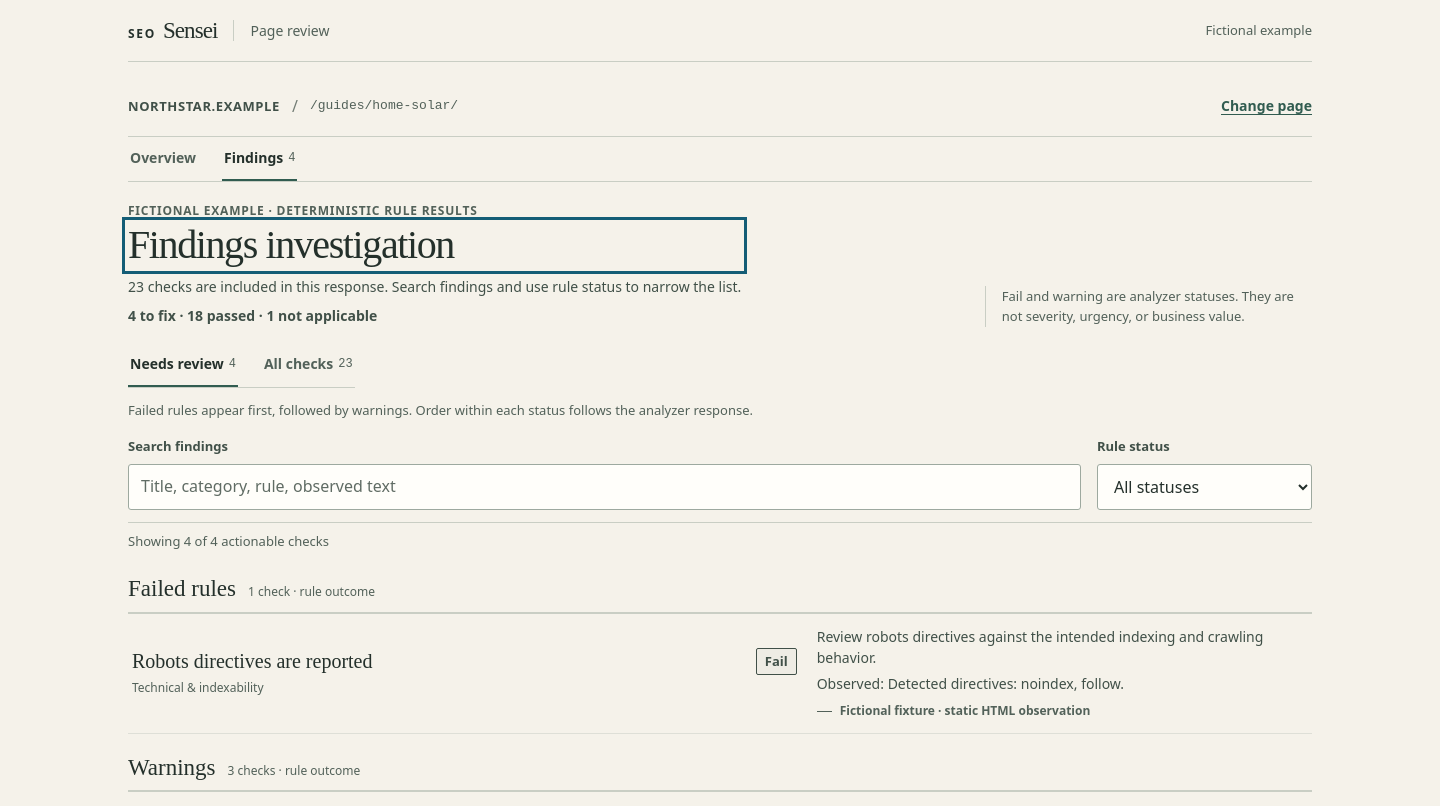
Evidence Ledger authenticated application › intersects search and status and restores the filtered list after detail navigation
Expected: the heading "Findings investigation" is shown, top-left (128, 222), bottom-right (454, 267)
In the search field labelled "Search findings": (604, 487) top-left (128, 464), bottom-right (1081, 510), type "twitter"
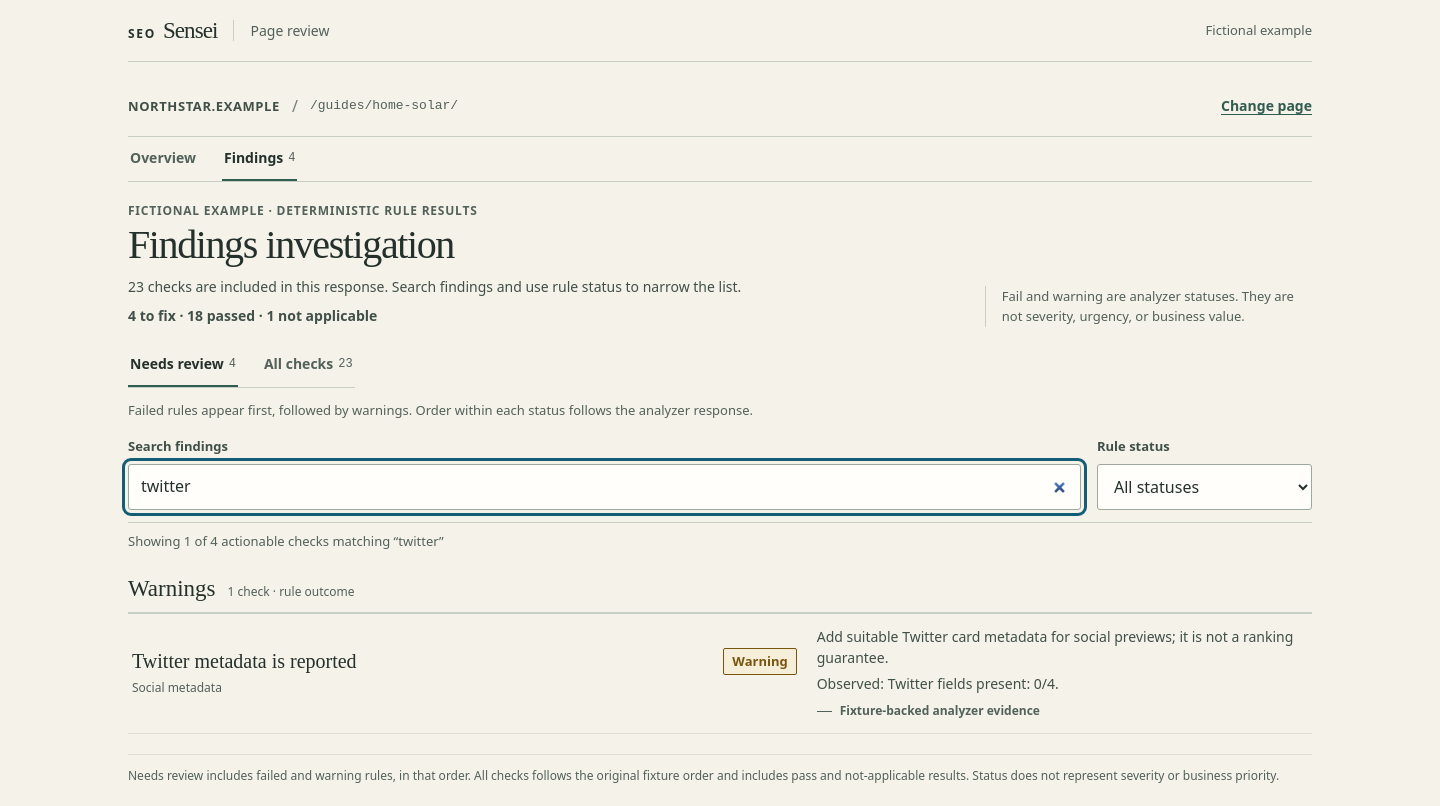
Select "Warning" in the dropdown labelled "Rule status": (1204, 487) top-left (1097, 464), bottom-right (1312, 510)
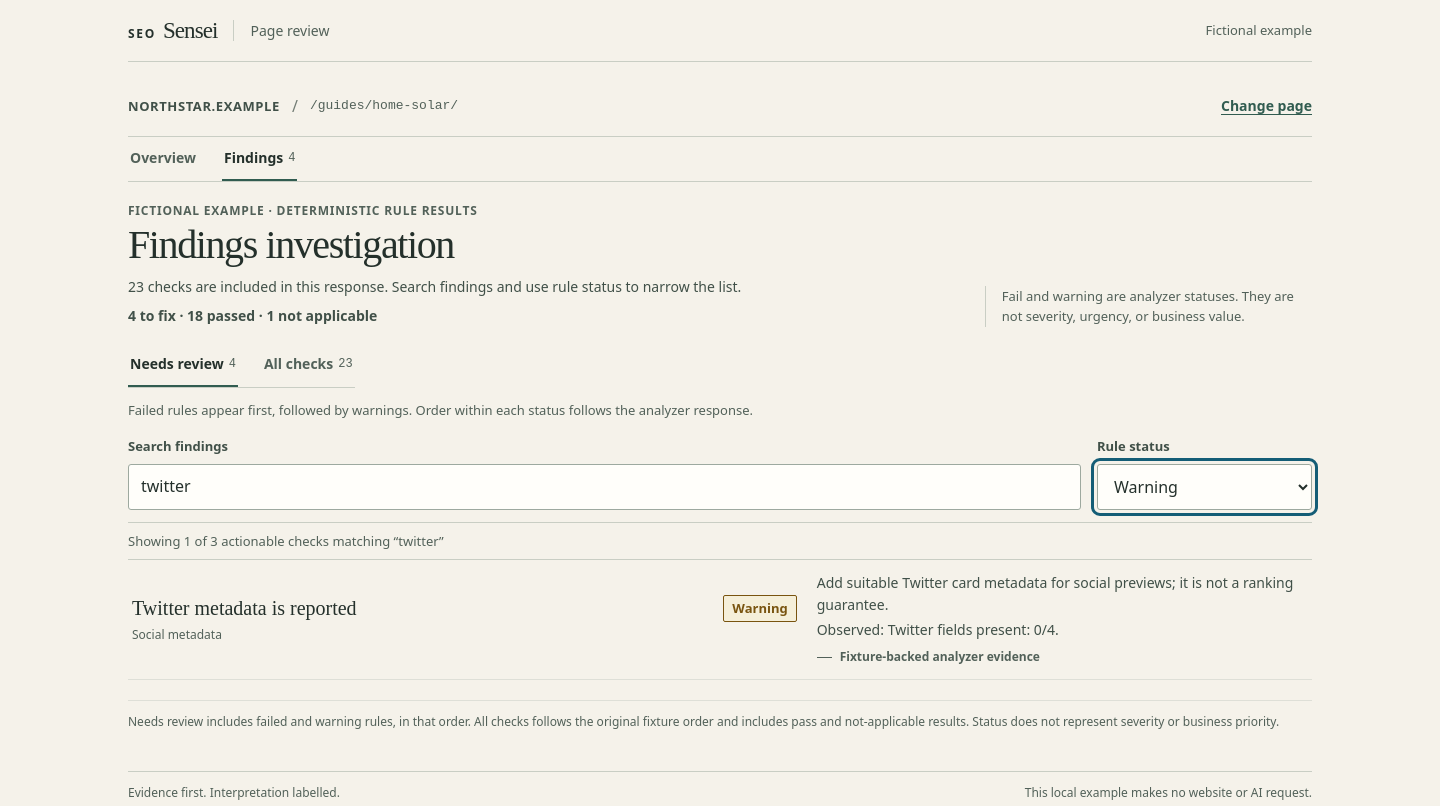
Result: the message shows "Showing 1 of 3 actionable checks" at top-left (128, 522), bottom-right (1312, 559)
Click the link "Twitter metadata": (244, 608) top-left (128, 560), bottom-right (1312, 679)
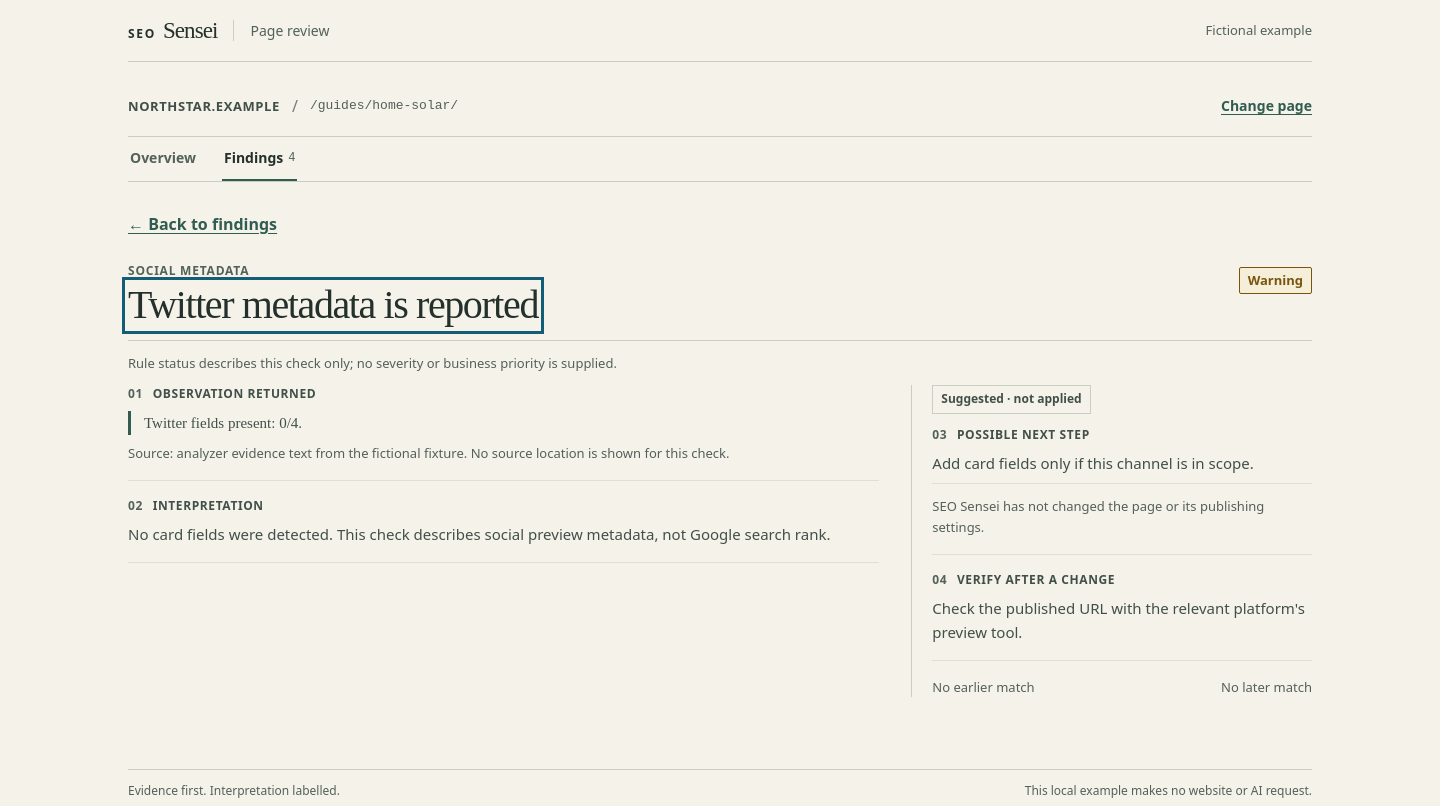
Expected: the heading "Twitter metadata is reported" is shown, top-left (128, 283), bottom-right (538, 328)
Click the link "← Back to findings": (203, 224) top-left (128, 213), bottom-right (277, 235)
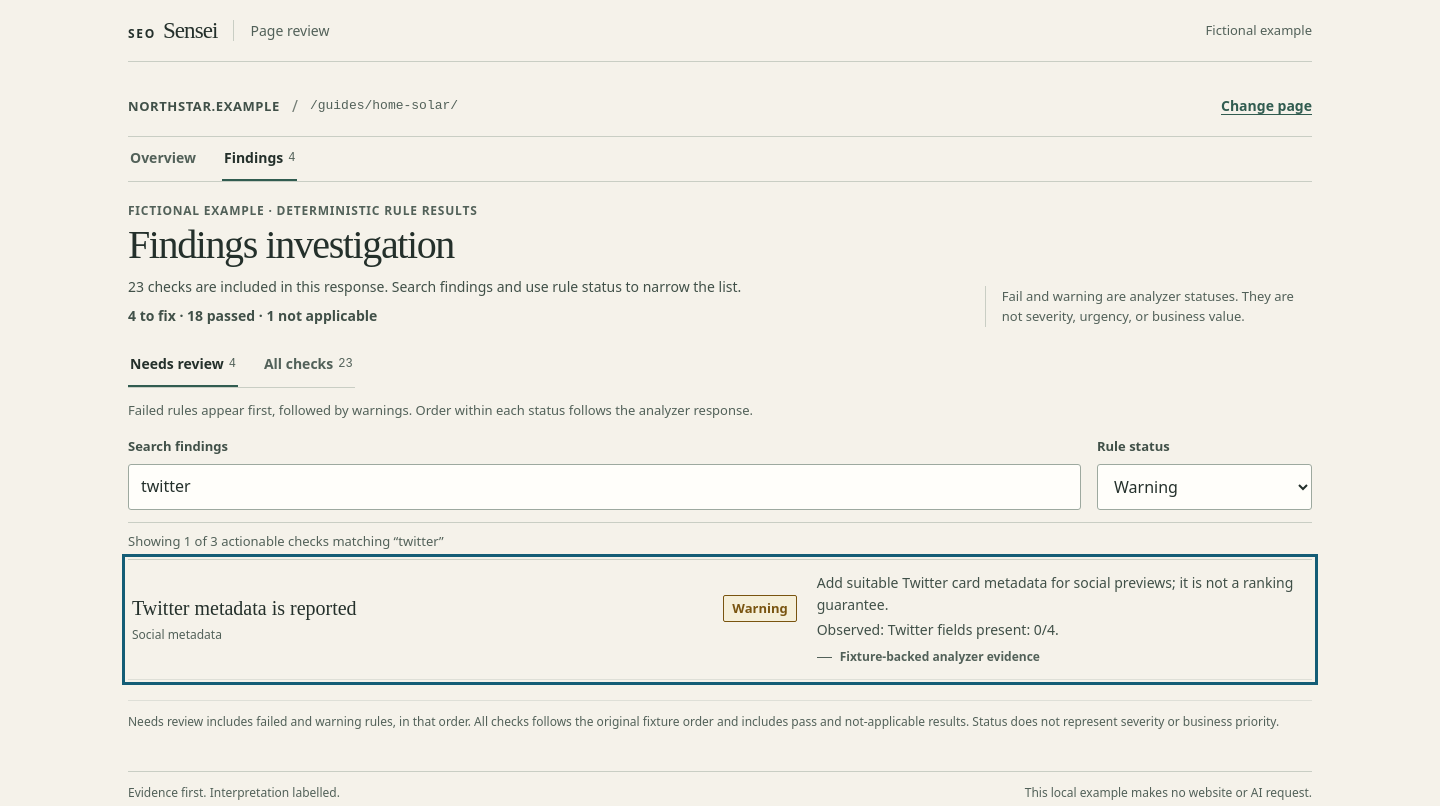
Result: the heading "Findings investigation" is shown at top-left (128, 222), bottom-right (454, 267)
Result: the search field labelled "Search findings" holds "twitter" at top-left (128, 464), bottom-right (1081, 510)
Result: the dropdown labelled "Rule status" shows "Warning" at top-left (1097, 464), bottom-right (1312, 510)
